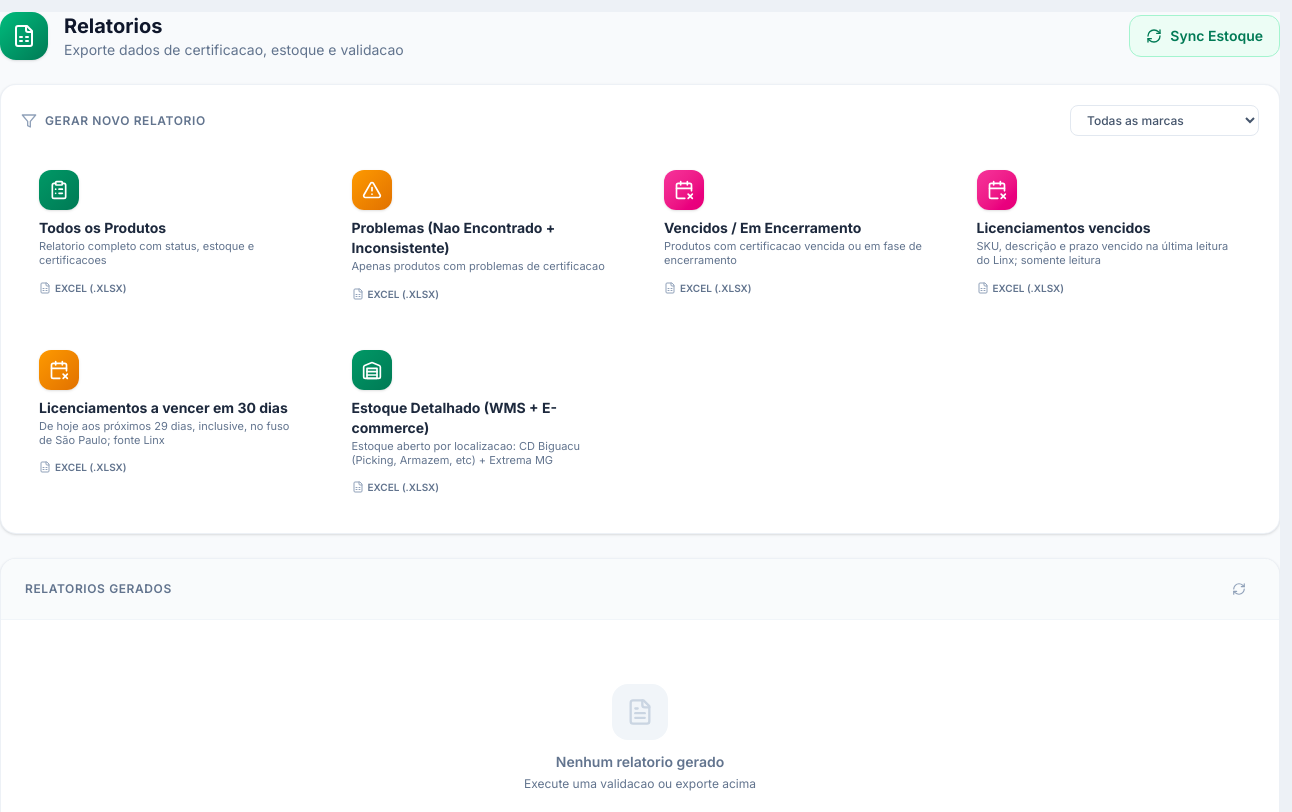
Test: CertRelatoriosPage › exportacao sem produtos › limpa o aviso quando a marca muda, para nao descrever um filtro que ja nao e o da tela
The width and height of the screenshot is (1292, 812).
Click the text "Todos os Produtos": (103, 228) top-left (39, 219), bottom-right (166, 236)
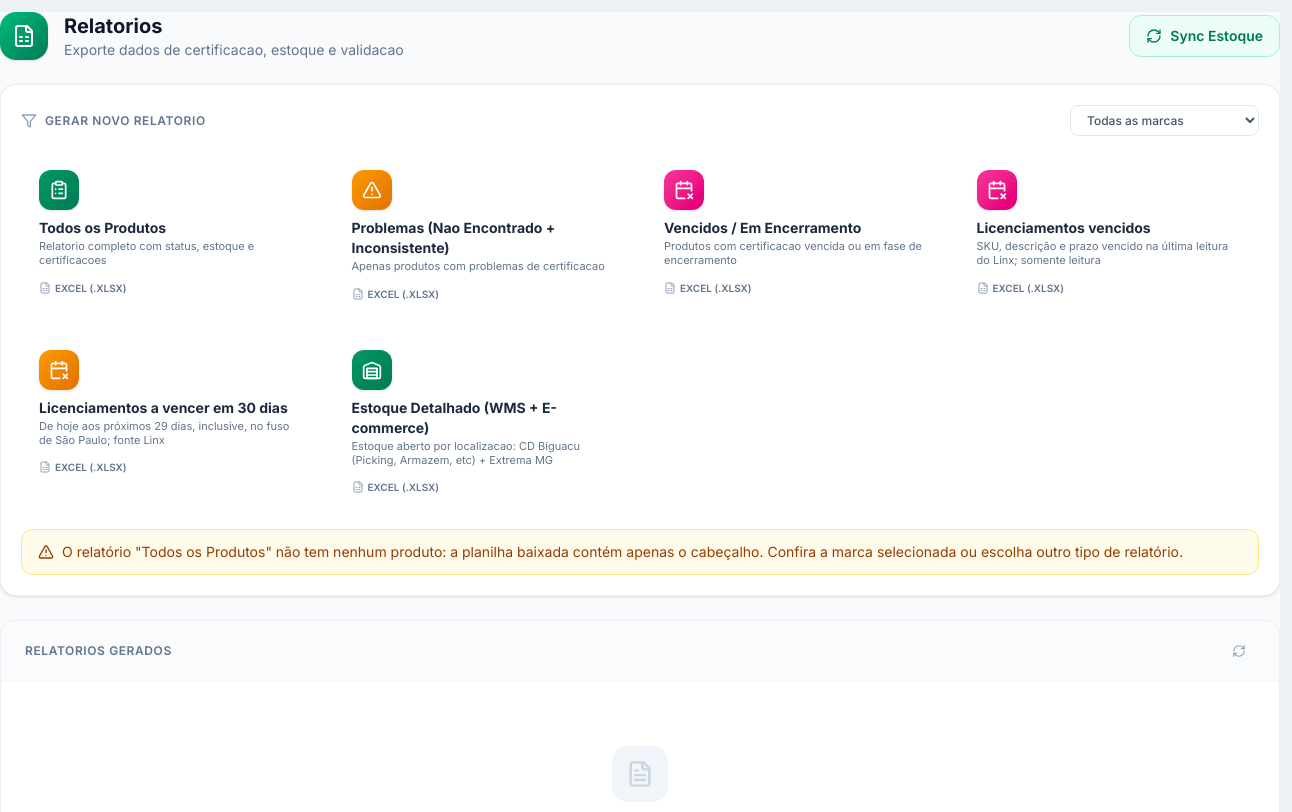
Now the message is shown, box top-left (21, 529), bottom-right (1259, 575)
Select "Puket" in the dropdown named "Filtrar marca": (1164, 120) top-left (1070, 105), bottom-right (1259, 136)
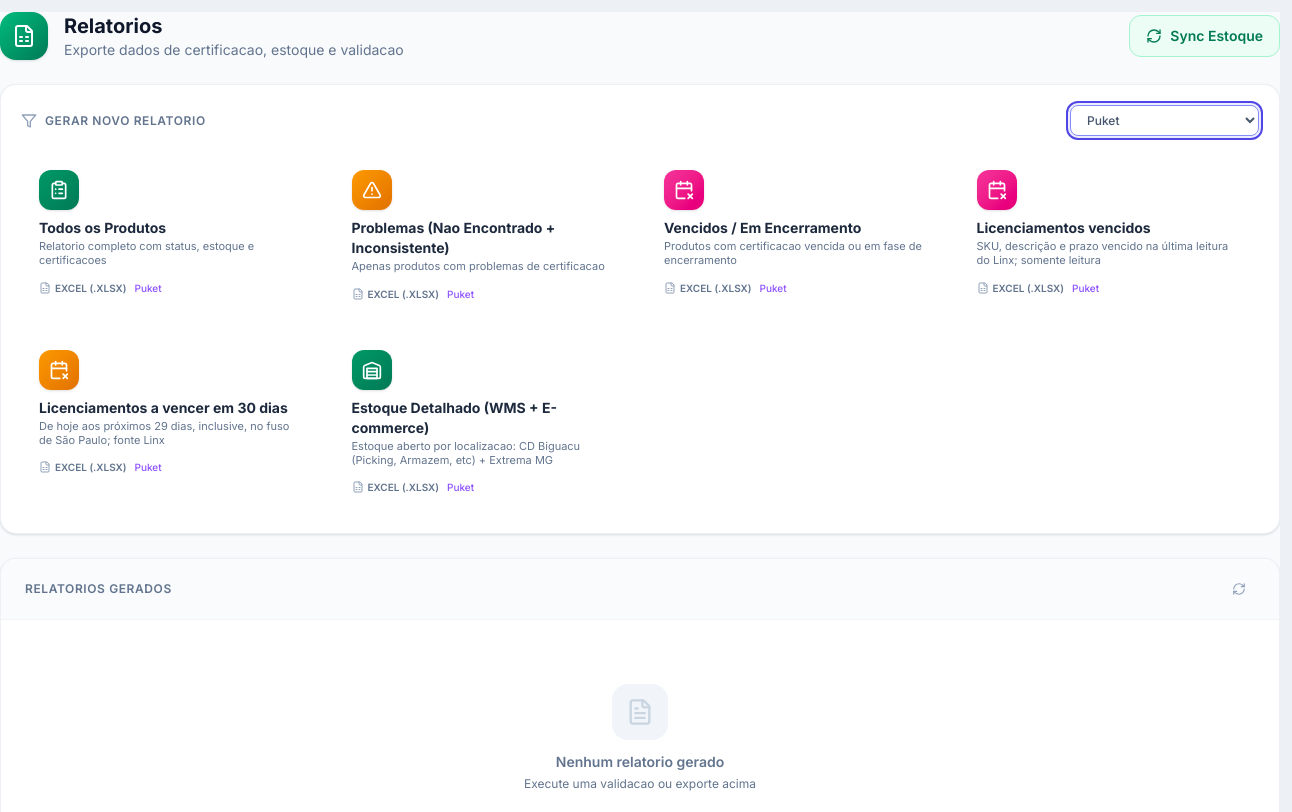
Now the message is gone
